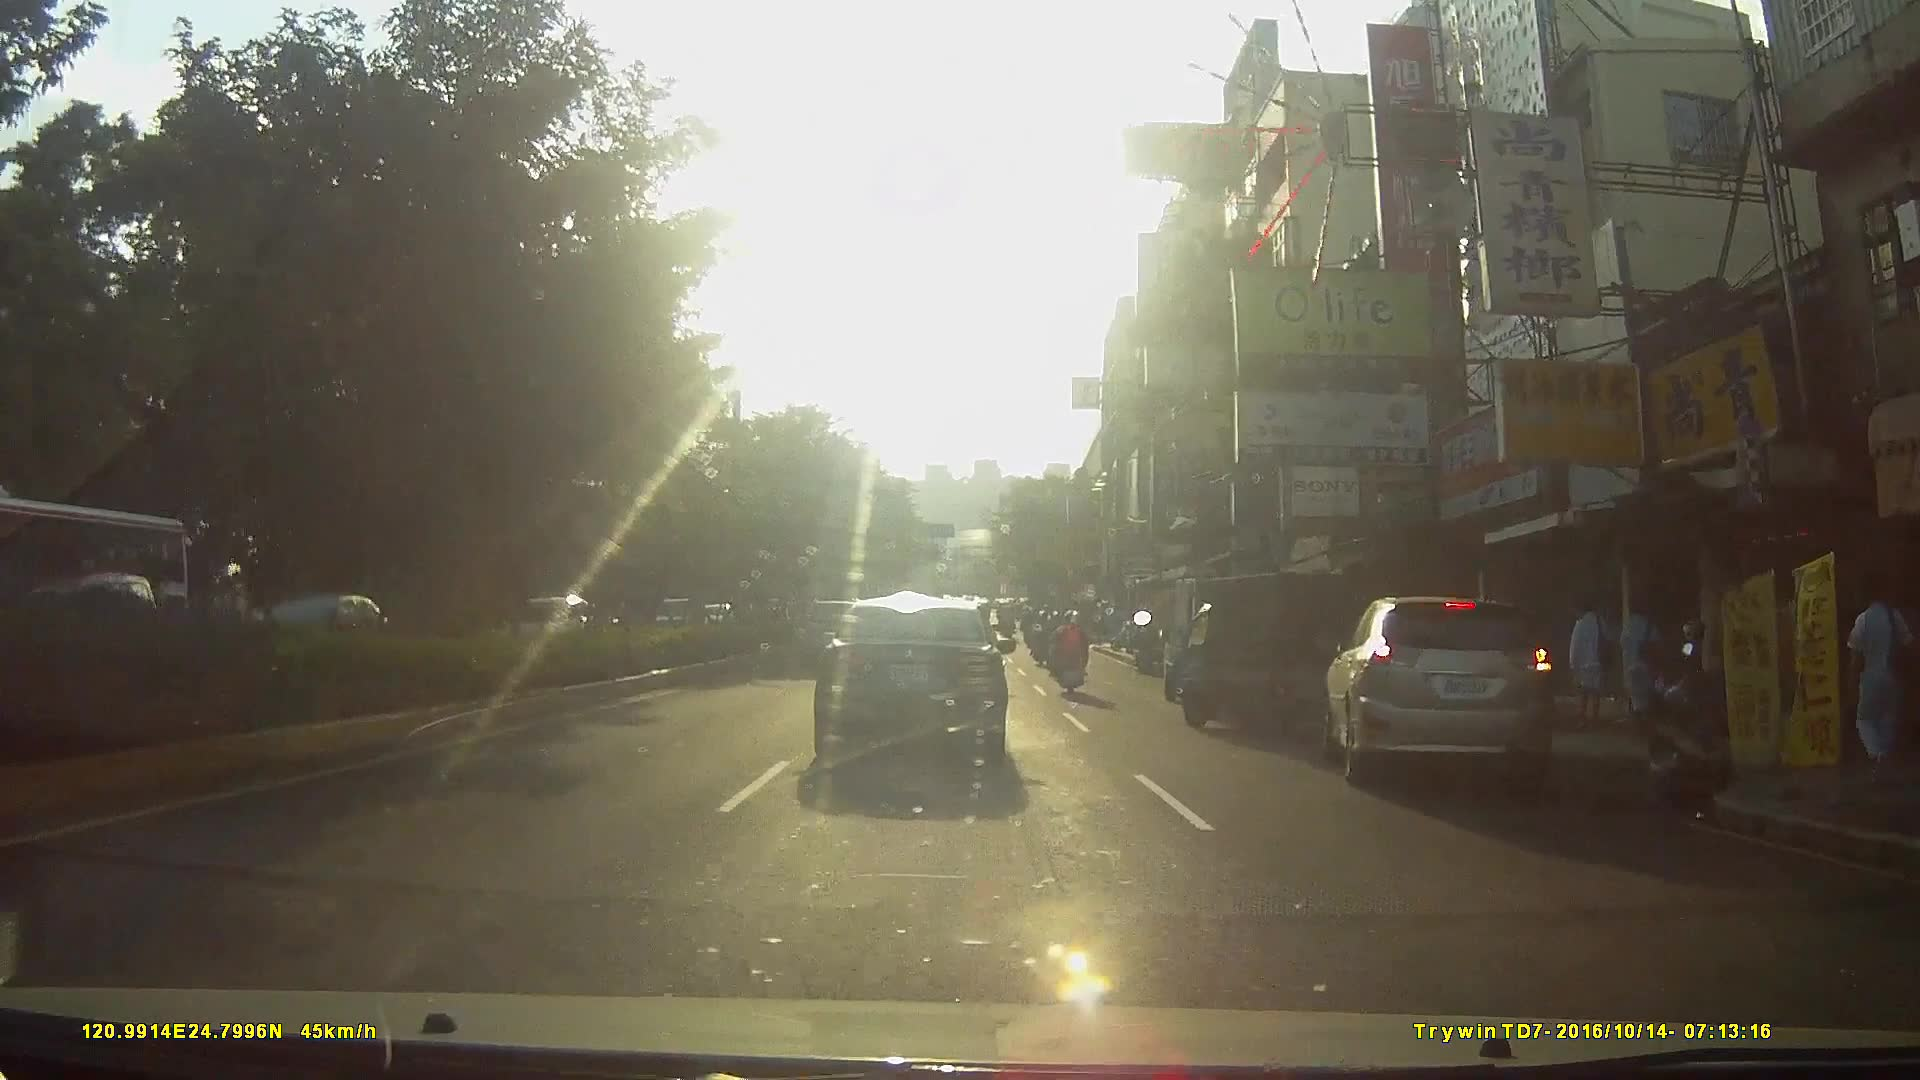pedestrian: (1849, 587, 1920, 780), (1565, 593, 1622, 740), (1613, 593, 1669, 738)
rider: (1046, 608, 1086, 699), (1026, 610, 1054, 666)
vehicle: (1324, 584, 1590, 812), (809, 591, 1026, 778), (1, 496, 194, 676), (1150, 567, 1317, 751)
